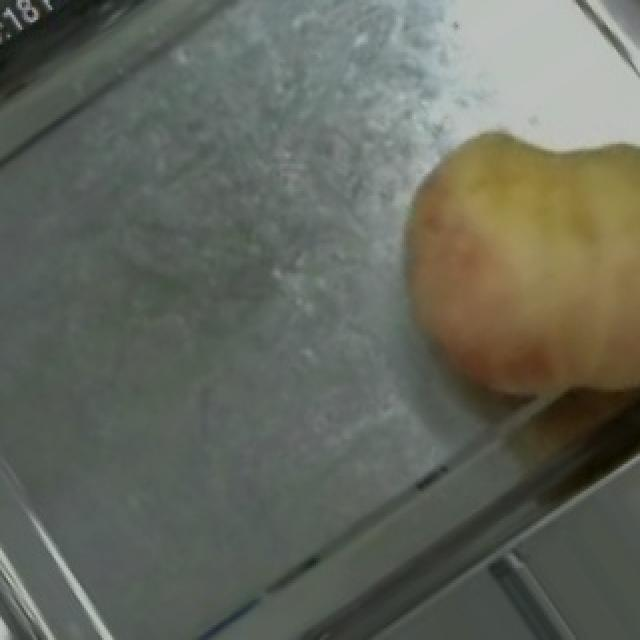Fruit: (358, 90, 640, 452)
